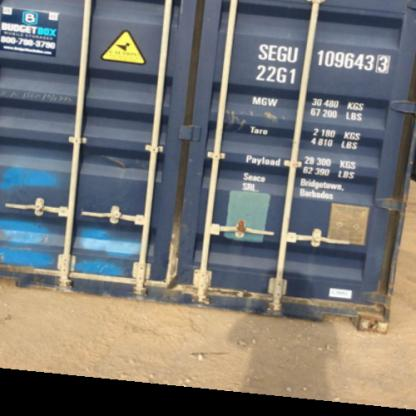Damage: (277, 287, 415, 331), (152, 218, 196, 290), (0, 250, 70, 286), (210, 281, 267, 303)
